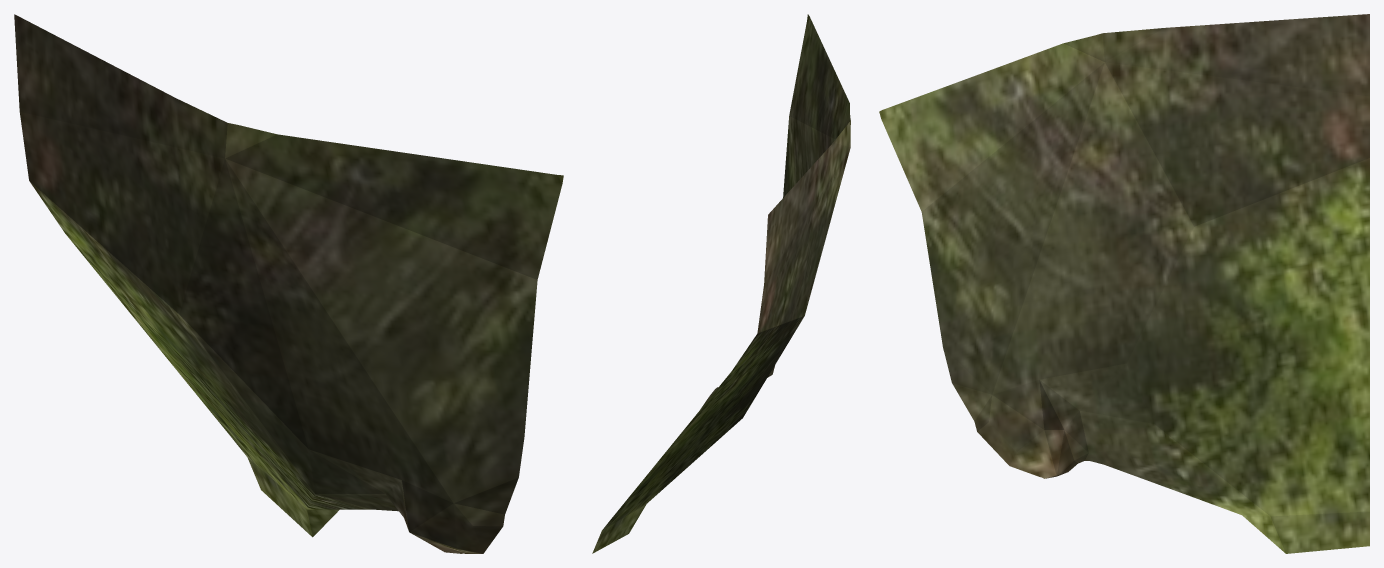
3 views of the same model, side by side, from view 1: azimuth 30°, elevation 25°; view 2: azimuth 150°, elevation 25°; view 3: azimuth 270°, elevation 25° (orthographic). The views are drawn at different scales.
Bounding box in the file's own units: 1.58 × 3.34 × 3.36.
1 material, 1 textured.
